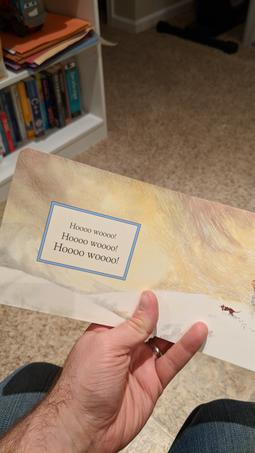text block: (48, 210, 123, 269)
